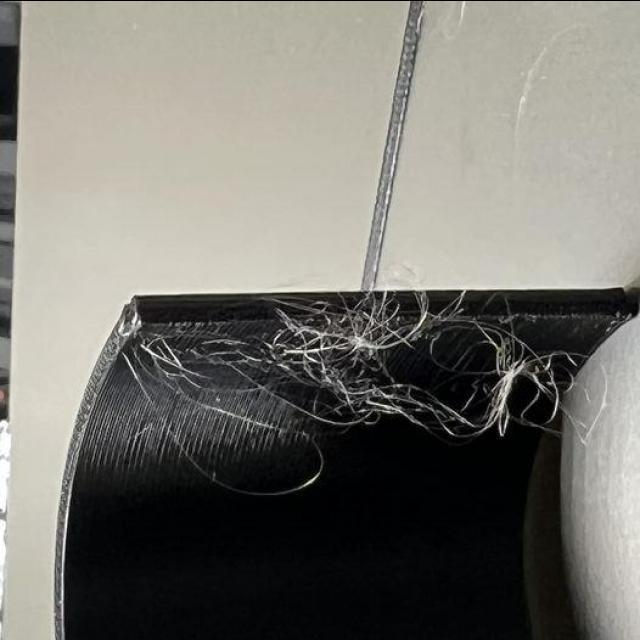stringing: (304, 318, 406, 404), (477, 344, 575, 412), (148, 336, 268, 381), (401, 386, 492, 440), (357, 295, 427, 343)
